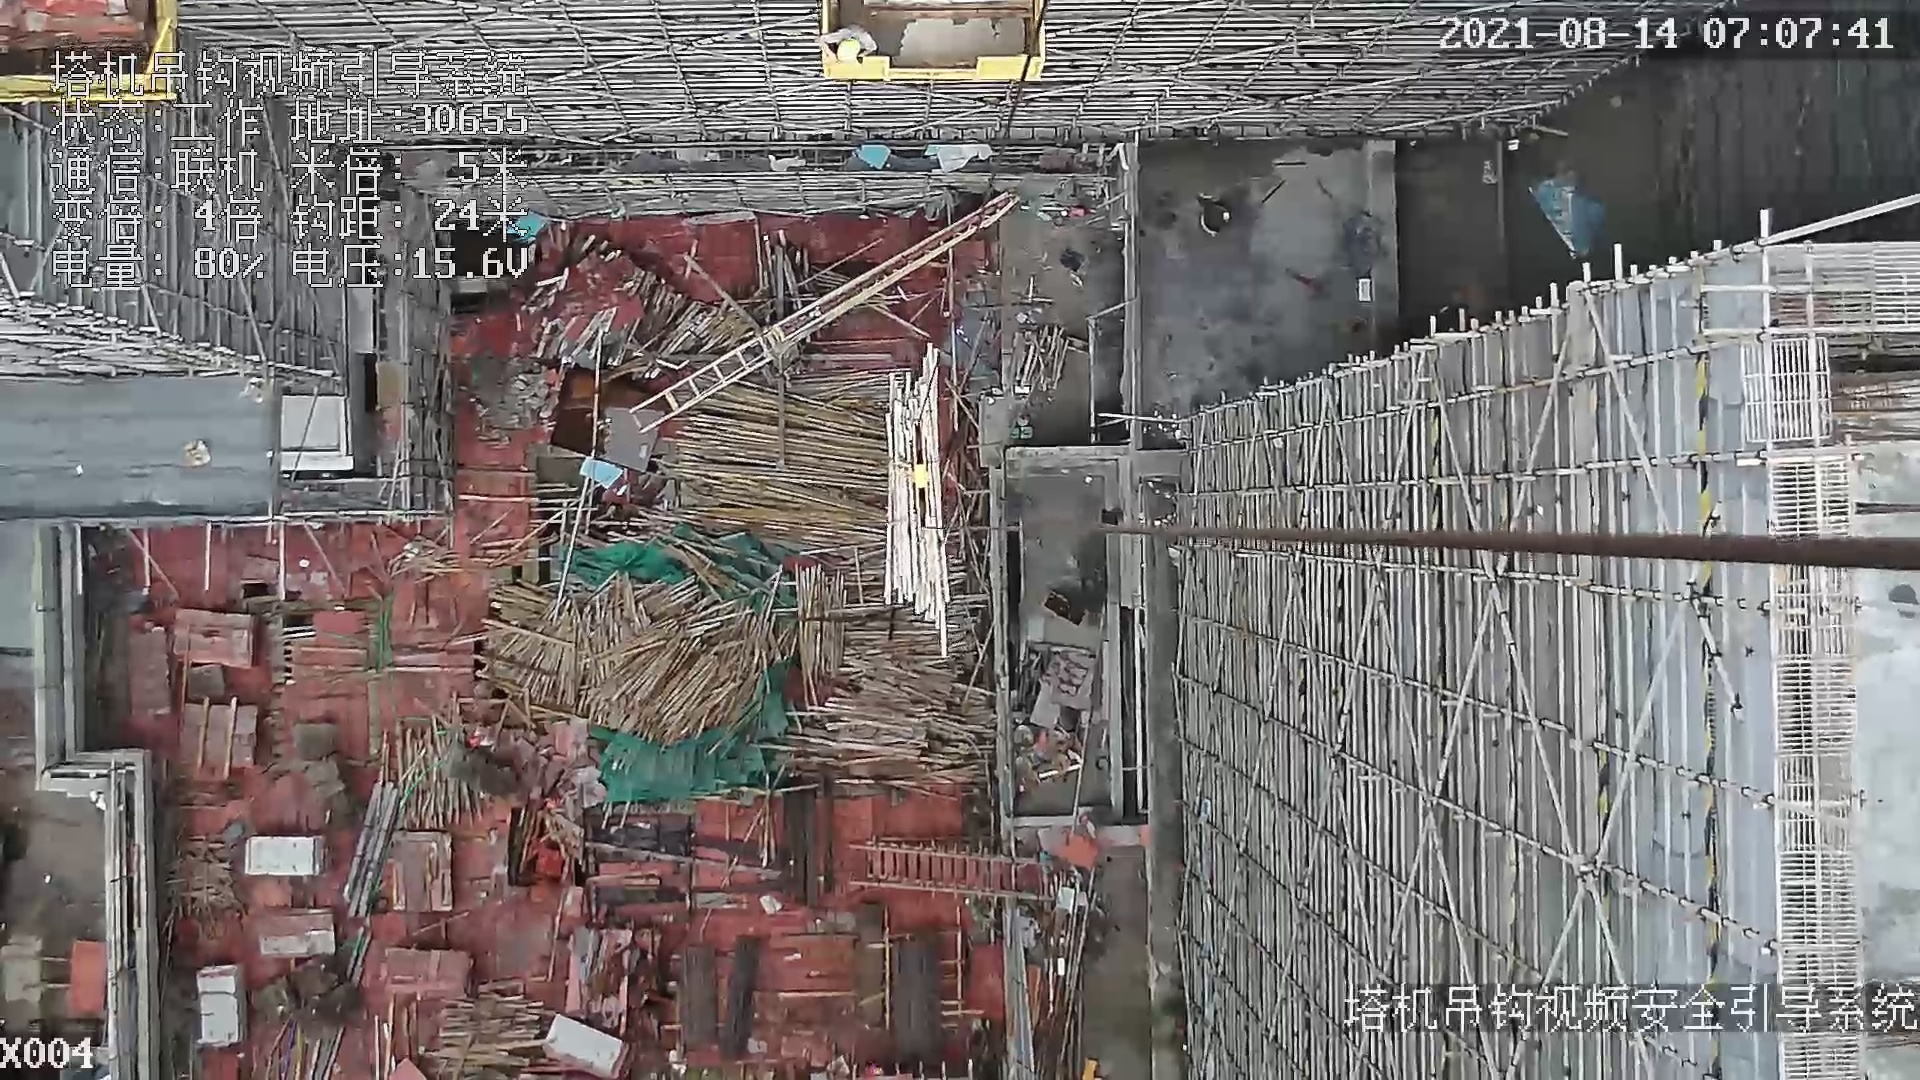helmet: (833, 37, 865, 66)
hook: (899, 419, 937, 530)
person: (819, 21, 886, 76)
